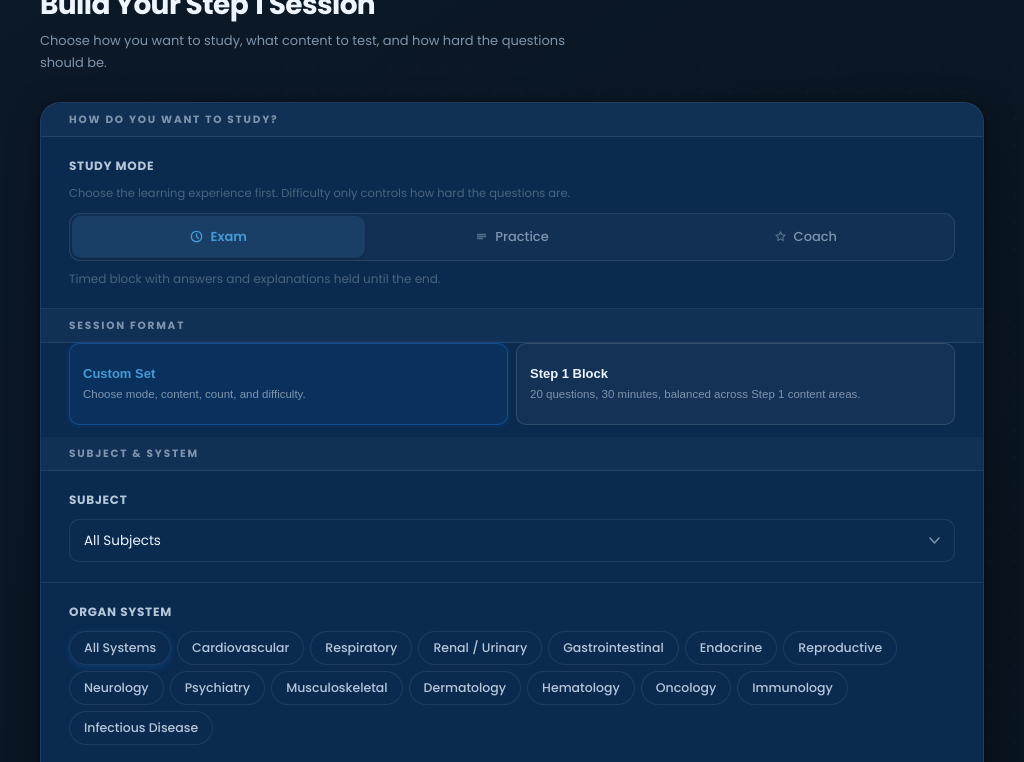
Test case: QuizBuilder current USMLE Step 1 preset › restores the previous custom setup after previewing the current-format block
(page scrolled)
Click the button "Coach": click(805, 237) top-left (660, 217), bottom-right (951, 257)
(page scrolled)
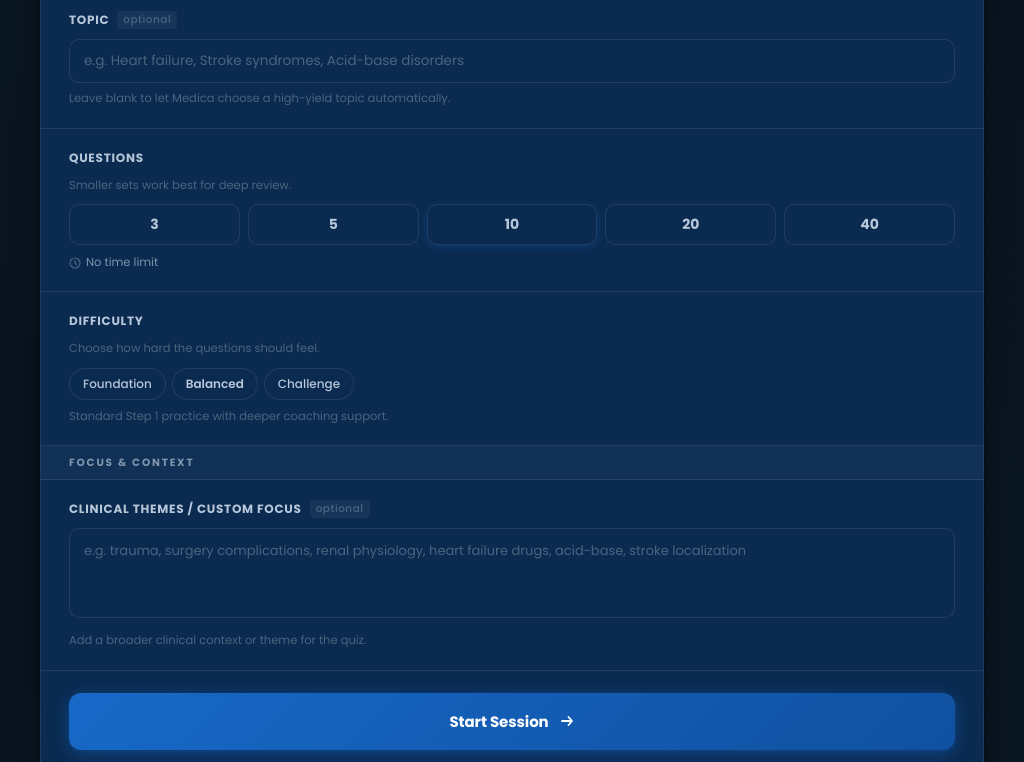
Click the button "Challenge": click(309, 384) top-left (264, 368), bottom-right (354, 400)
(page scrolled)
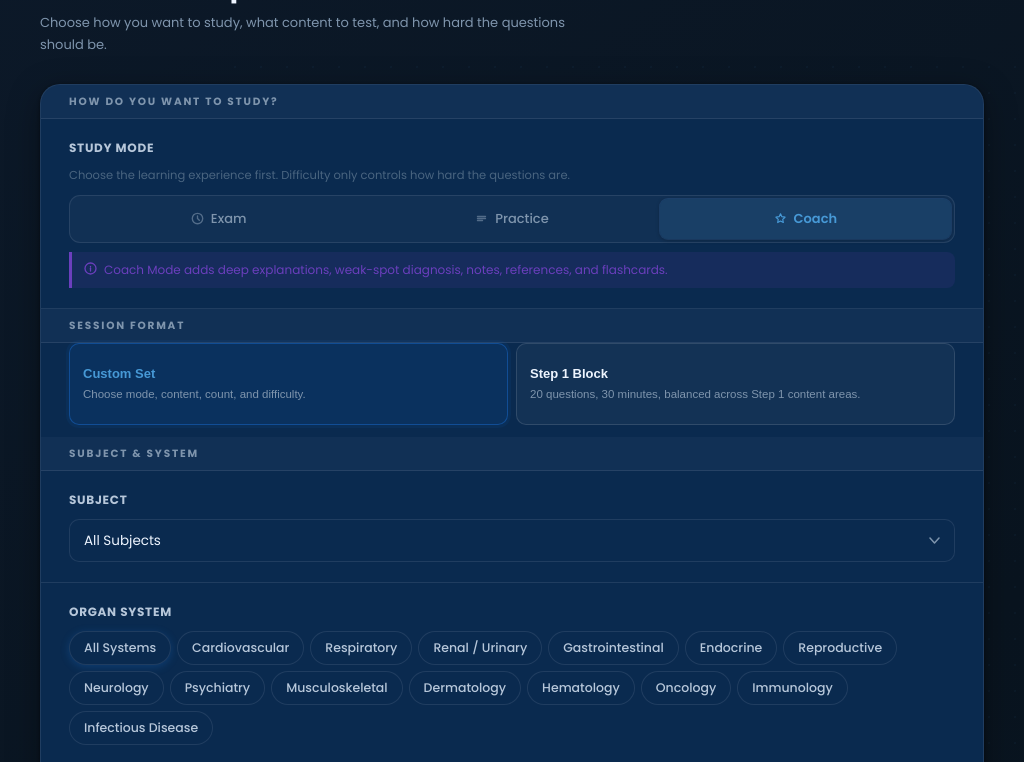
Click the button "Step 1 Block": click(569, 373) top-left (516, 343), bottom-right (955, 425)
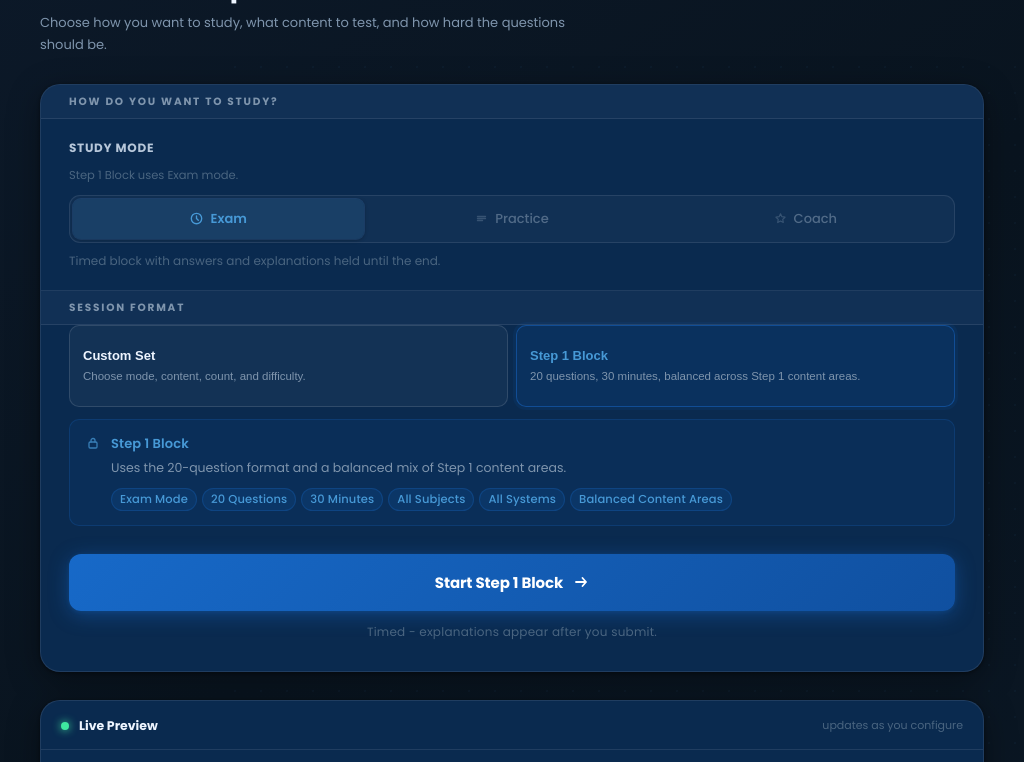
Click the button "Custom Set Choose mode, content, count, and difficulty.": click(119, 355) top-left (69, 325), bottom-right (508, 407)
(page scrolled)
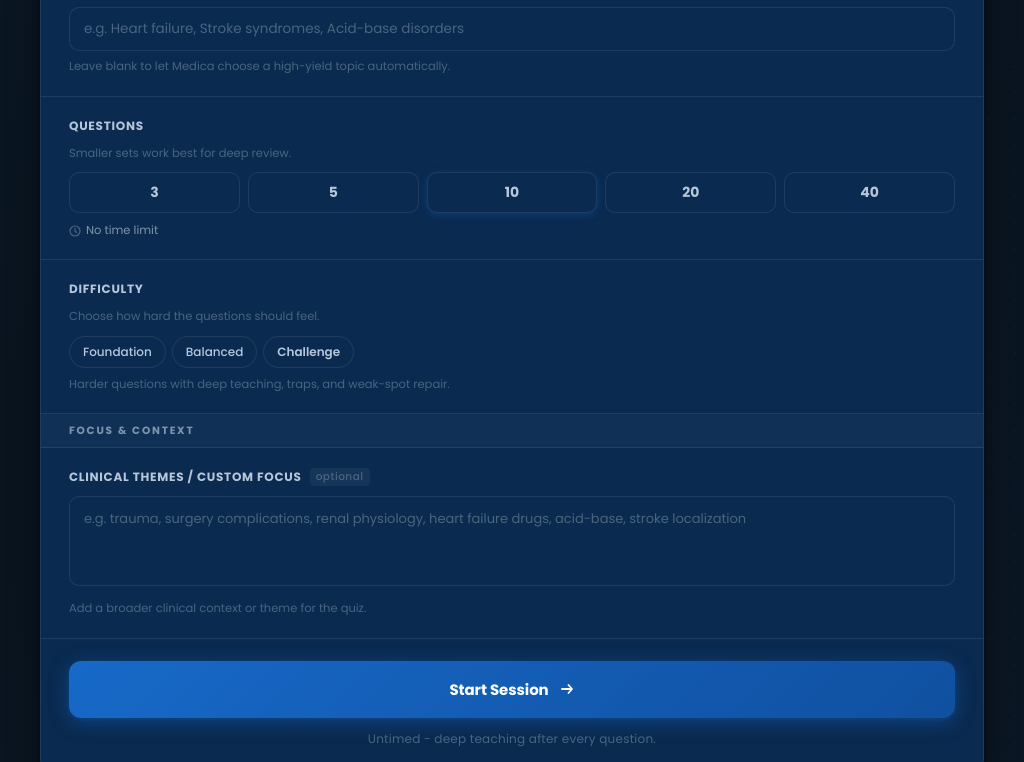
Check: the text "Harder questions with deep teaching, traps, and weak-spot repair." is shown, box top-left (69, 376), bottom-right (450, 392)
